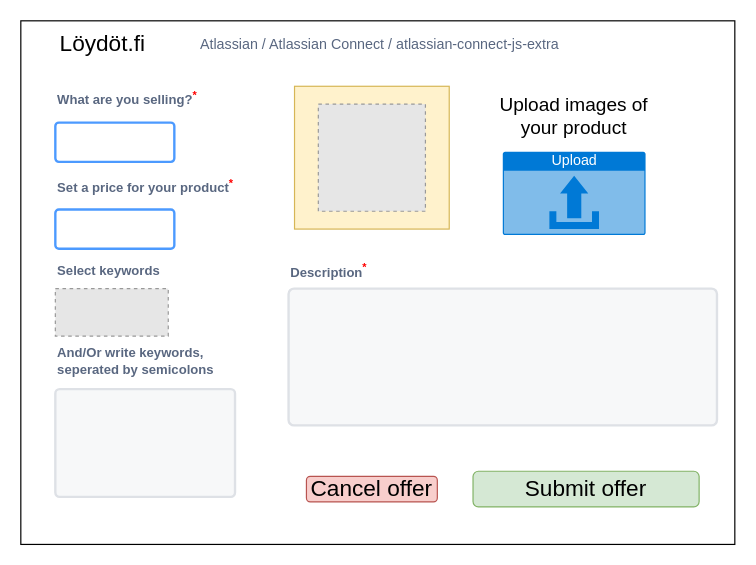
Image size: 756x565. Some labels were removed from this diagram. Grey dashed boxes stand in for pictures. Each missing label, with the centre of its shape:
"Keyword; Keyword; Keywords will help the shopkeeper find your product." belongs at (x=145, y=442).
"Write an informative description of your product here" belongs at (x=502, y=356).
